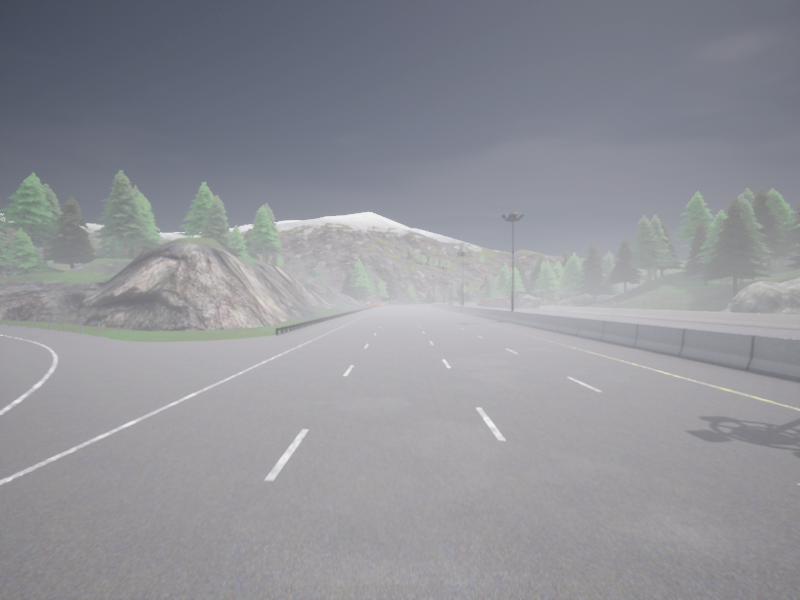vehicle: (460, 301, 464, 304), (449, 302, 453, 304)
